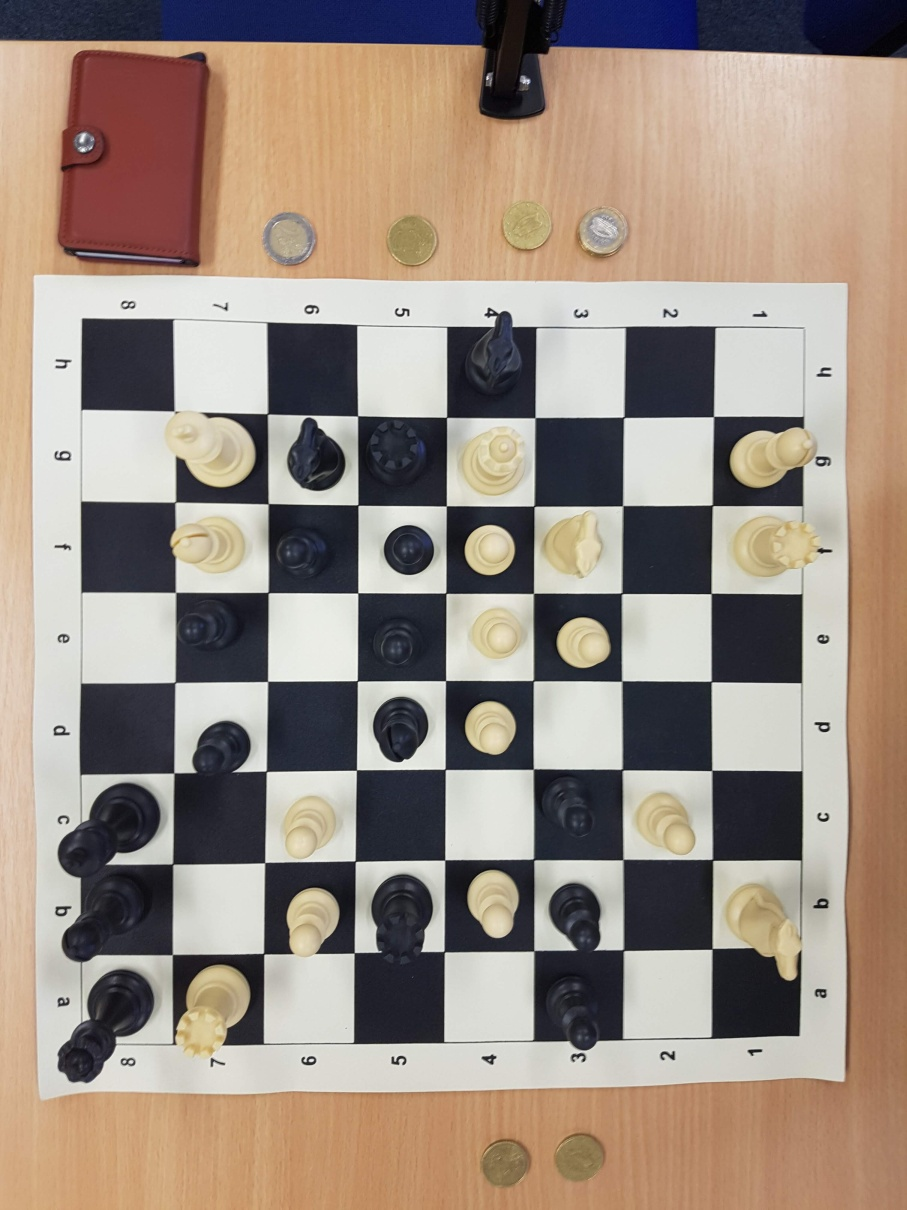chess_bishop: (60, 876, 154, 963), (728, 427, 816, 486), (170, 517, 244, 573), (372, 696, 427, 763)
chess_king: (57, 783, 159, 877), (165, 411, 255, 488)
chess_knight: (724, 883, 803, 981), (466, 311, 524, 396), (287, 417, 345, 491), (544, 511, 604, 579)
chess_pawn: (548, 978, 599, 1051), (637, 792, 696, 855), (287, 888, 340, 958), (468, 871, 520, 939), (551, 884, 601, 951), (281, 796, 335, 858), (542, 776, 595, 838), (191, 721, 250, 776), (178, 599, 239, 652), (554, 615, 611, 669), (464, 701, 517, 754), (470, 608, 525, 659), (273, 529, 328, 580), (383, 525, 435, 576), (465, 525, 515, 575), (374, 618, 423, 669)
chess_queen: (57, 969, 153, 1083), (463, 426, 525, 494)
chess_rook: (175, 968, 248, 1060), (371, 875, 434, 963), (734, 516, 818, 576), (368, 421, 425, 482)
